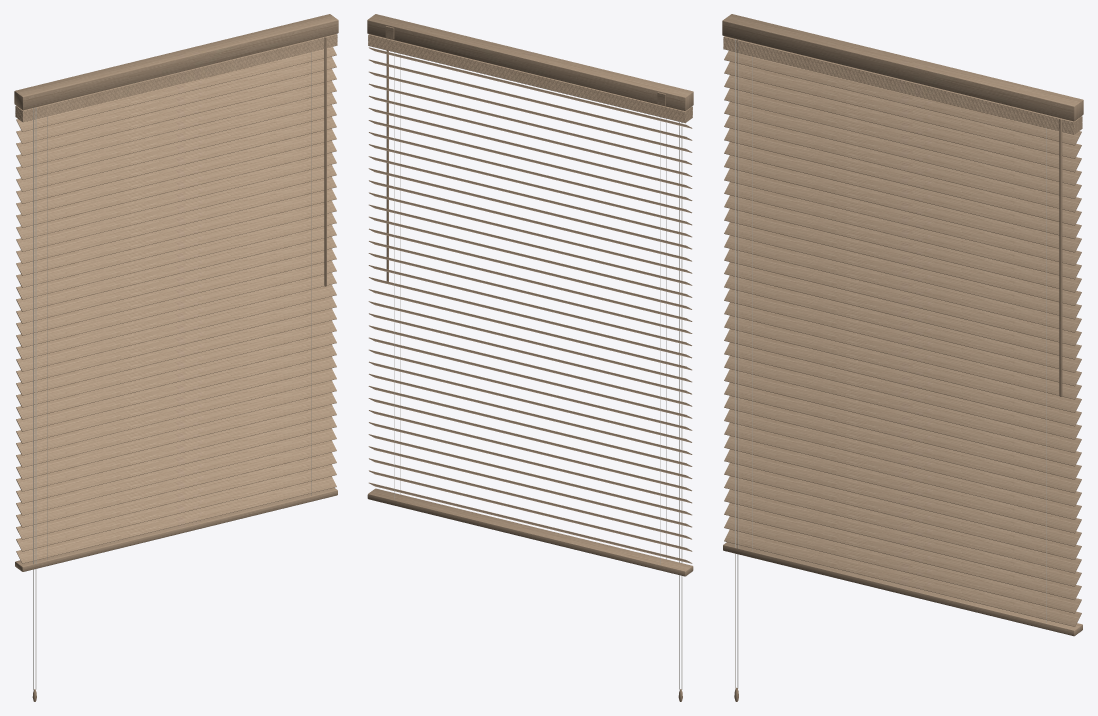
The model's file is veneciana_madera_220_c75.glb.
The picture shows the model from 3 angles, left to right: view 1: azimuth 30°, elevation 25°; view 2: azimuth 150°, elevation 25°; view 3: azimuth 330°, elevation 25°; orthographic projection. The views are drawn at different scales.
Parts seen in each view (by area): view 1: veneciana_madera_220_c75; view 2: veneciana_madera_220_c75; view 3: veneciana_madera_220_c75.
Boxes of the visible parts, x1,y1,x2,y2 form: veneciana_madera_220_c75: (14,14,338,701); veneciana_madera_220_c75: (367,14,693,701); veneciana_madera_220_c75: (722,14,1083,701).
Size of the model in its own units: 1.2 by 2.2 by 0.0639.
2 materials, 1 textured.
